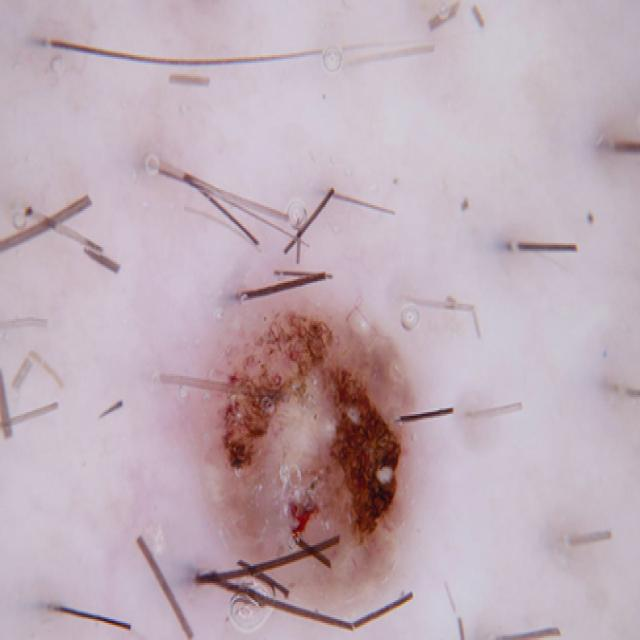Keratosis: (201, 273, 462, 599)
